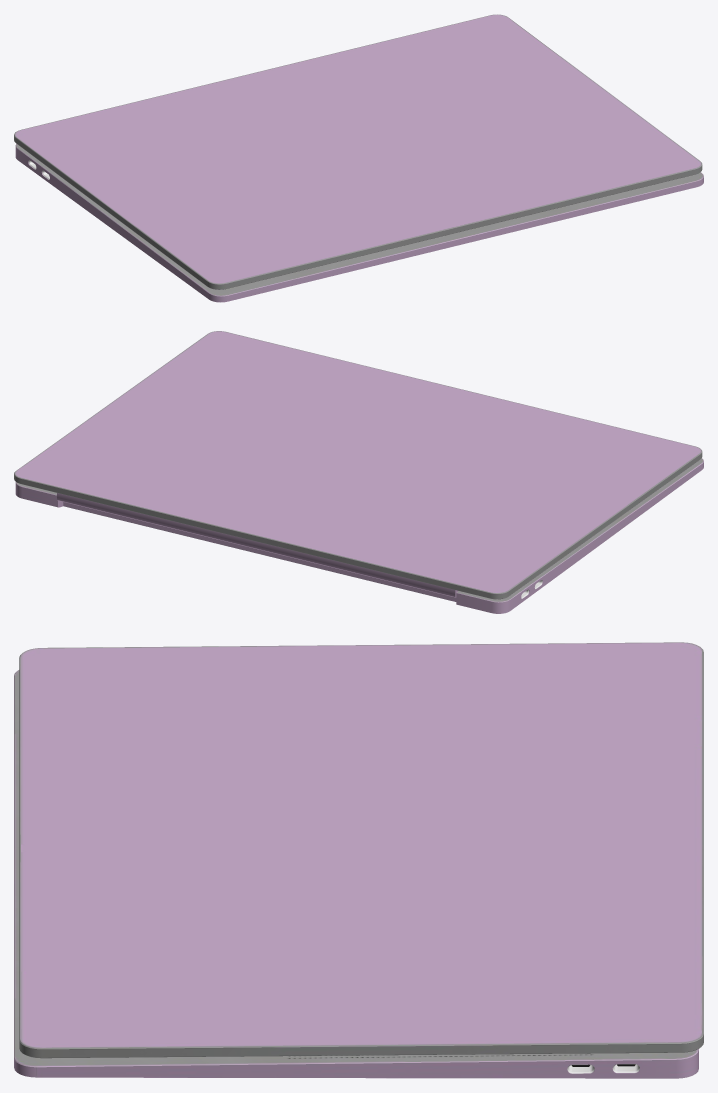
File: laptop_demo.glb
3 views of the same model, one above another, from view 1: azimuth 30°, elevation 25°; view 2: azimuth 150°, elevation 25°; view 3: azimuth 270°, elevation 25° (orthographic). The views are drawn at different scales.
Visible parts, largest first — view 1: laptop14_screen.001, laptop14_body.001; view 2: laptop14_screen.001, laptop14_body.001; view 3: laptop14_screen.001, laptop14_body.001.
Boxes of the visible parts, <box> form: laptop14_screen.001: <box>14,14,702,289</box>; laptop14_body.001: <box>15,143,703,302</box>; laptop14_screen.001: <box>14,331,702,599</box>; laptop14_body.001: <box>15,458,703,613</box>; laptop14_screen.001: <box>19,642,703,1058</box>; laptop14_body.001: <box>14,670,698,1078</box>.
Bounding box in the file's own units: 3.02 × 0.1881 × 2.2.
3 materials, 1 textured.
